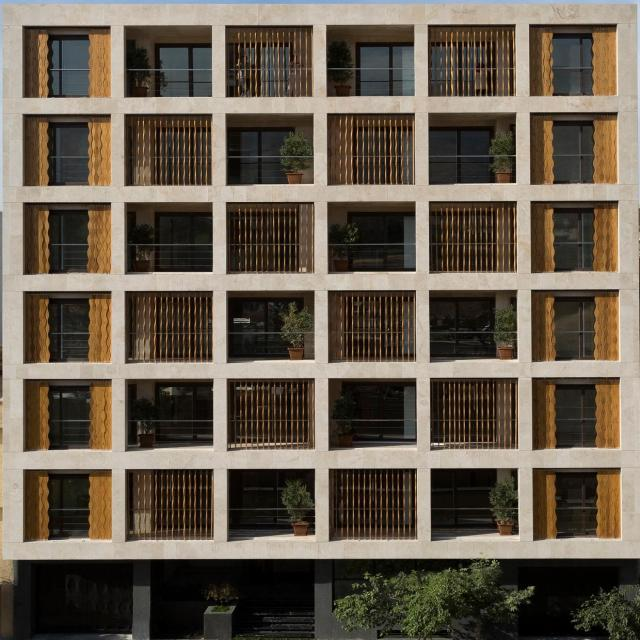railing: (234, 377, 314, 453), (439, 377, 518, 450), (132, 470, 212, 542), (333, 470, 416, 539), (438, 27, 518, 97), (237, 203, 315, 273), (340, 114, 416, 185), (439, 202, 515, 272), (341, 293, 415, 363), (135, 117, 212, 184), (135, 294, 208, 362), (240, 33, 310, 95)
window: (428, 123, 492, 183), (429, 294, 492, 354), (431, 467, 493, 525), (230, 292, 286, 356), (228, 468, 291, 524), (345, 210, 404, 267), (154, 209, 210, 267), (227, 124, 285, 179), (152, 40, 212, 92), (357, 41, 411, 97), (159, 379, 209, 439), (351, 379, 401, 438), (551, 384, 596, 446), (553, 204, 594, 272), (46, 31, 90, 93), (550, 119, 594, 180), (44, 470, 88, 530), (48, 294, 89, 357), (45, 208, 88, 268), (554, 294, 594, 358), (555, 469, 595, 533), (47, 121, 88, 183), (551, 32, 592, 93), (48, 385, 88, 444)
